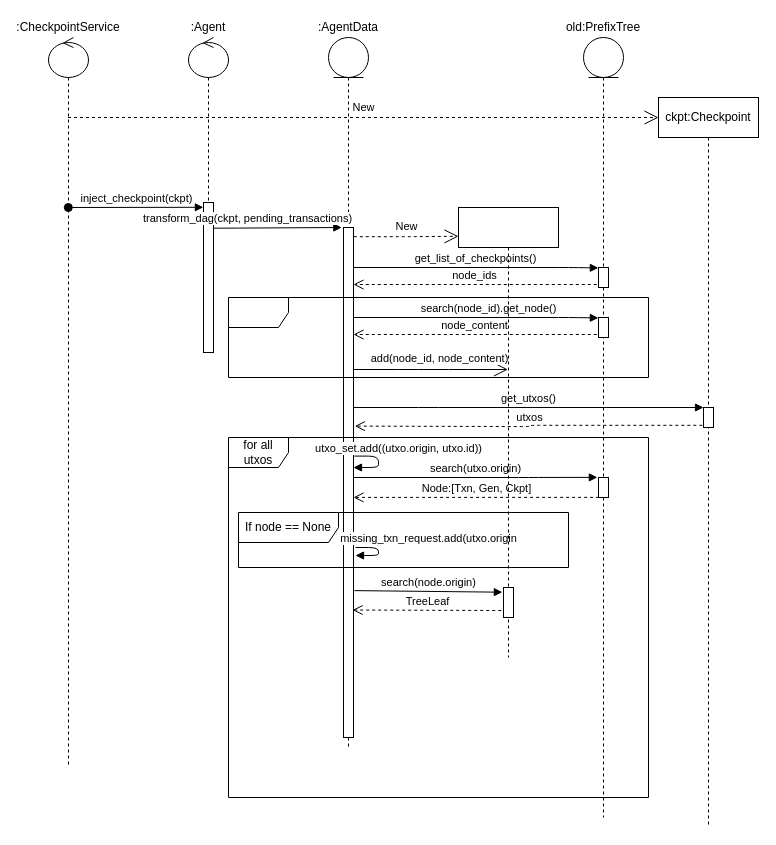
Some shapes in this 776 by 845 pixel diagram are drawn without their labels. Each missing label, with the centre of its shape:
"for all all node_ids" belongs at (438,337).
"new:PrefixTree" belongs at (508,432).
